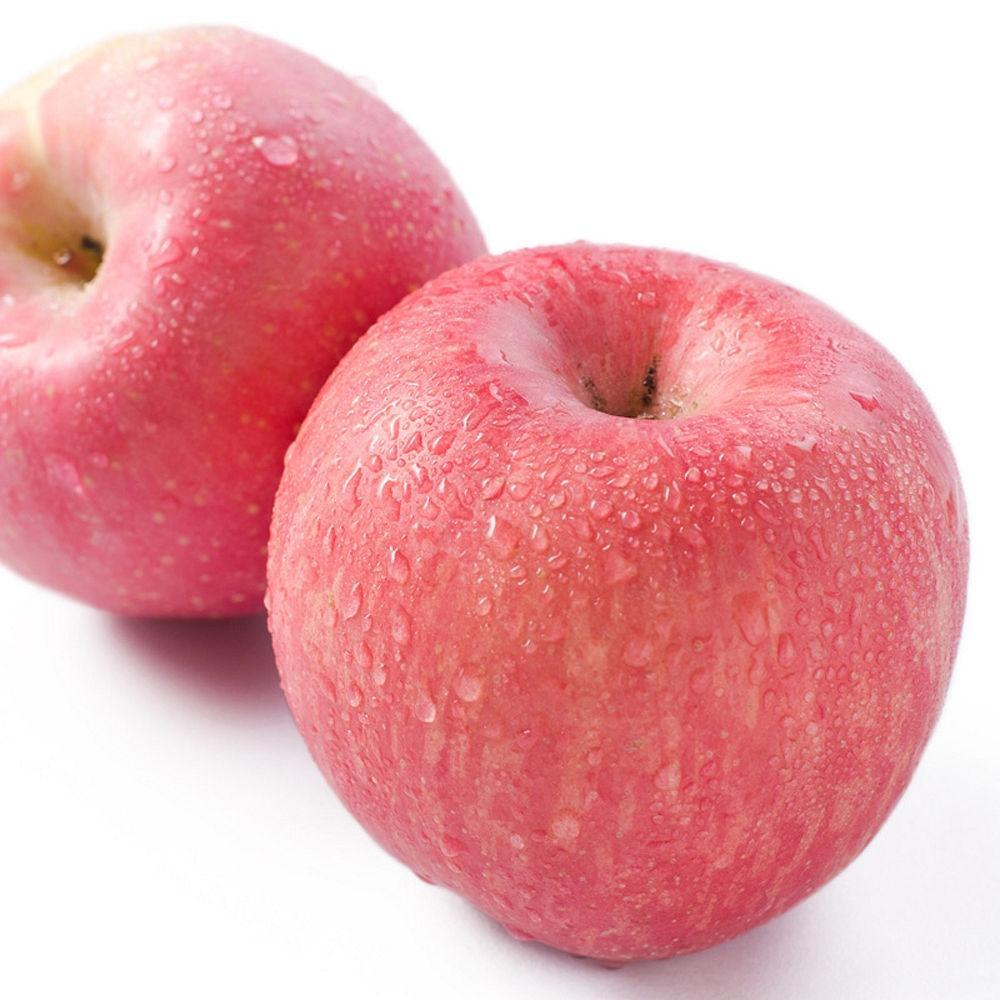apple: (263, 238, 973, 961), (1, 36, 499, 651)
